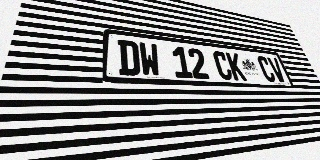1: (170, 46, 193, 78)
2: (187, 48, 209, 79)
C: (212, 50, 234, 80), (256, 56, 277, 82)
D: (118, 39, 141, 76)
K: (225, 52, 247, 81)
V: (267, 57, 287, 83)
W: (138, 42, 161, 77)
